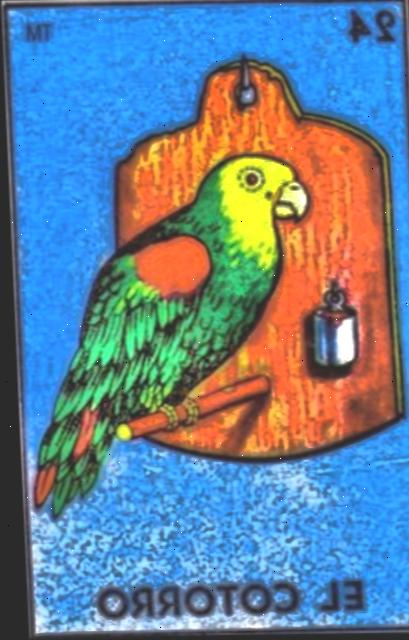El Cotorro: (5, 1, 409, 636)
